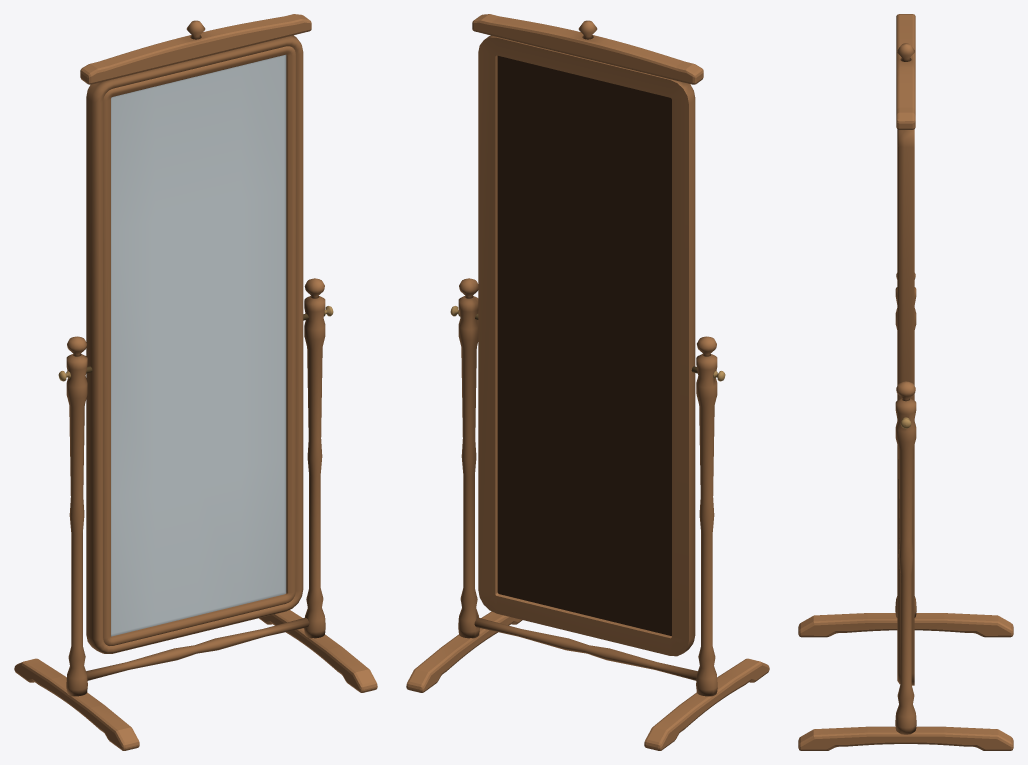
File: mirror.glb
3 renders of one model, left to right at view 1: azimuth 30°, elevation 25°; view 2: azimuth 150°, elevation 25°; view 3: azimuth 270°, elevation 25°, orthographic. The views are drawn at different scales.
Parts seen in each view (by area): view 1: mirror; view 2: mirror; view 3: mirror.
Part boxes in pixels (box(x1,y1,x2,y2)): mirror: box(14, 14, 377, 750); mirror: box(406, 14, 769, 750); mirror: box(798, 14, 1013, 750).
Size of the model in its own units: 0.8018 by 1.86 by 0.56.
